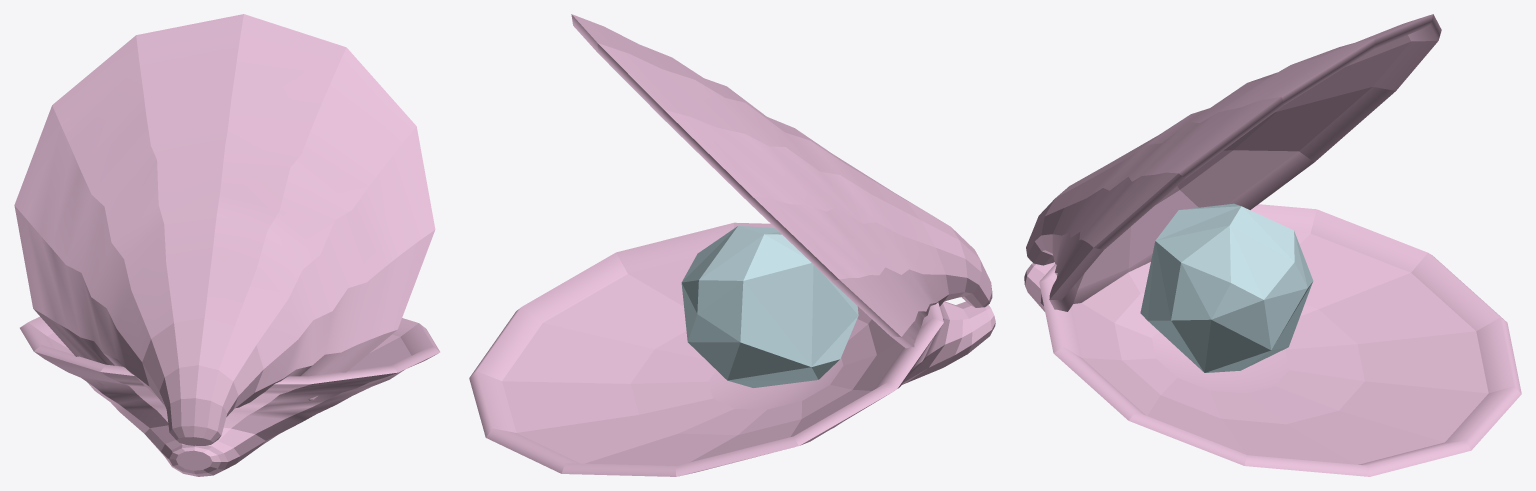
The model's file is oysterClam1.fbx.
3 renders of one model, left to right at view 1: azimuth 30°, elevation 25°; view 2: azimuth 150°, elevation 25°; view 3: azimuth 270°, elevation 25°, orthographic. The views are drawn at different scales.
Visible parts, largest first — view 1: pCylinder117, pCylinder116; view 2: pCylinder116, pCylinder117, pSphere4; view 3: pCylinder116, pCylinder117, pSphere4.
Boxes of the visible parts, bbox=[...] form: pCylinder117: bbox=[14, 14, 435, 445]; pCylinder116: bbox=[20, 316, 440, 476]; pCylinder116: bbox=[469, 222, 995, 476]; pCylinder117: bbox=[571, 14, 992, 348]; pSphere4: bbox=[681, 225, 858, 387]; pCylinder116: bbox=[1024, 204, 1521, 476]; pCylinder117: bbox=[1026, 14, 1441, 311]; pSphere4: bbox=[1140, 203, 1313, 372].
Bounding box in the file's own units: 1.52 × 1.35 × 1.54.
